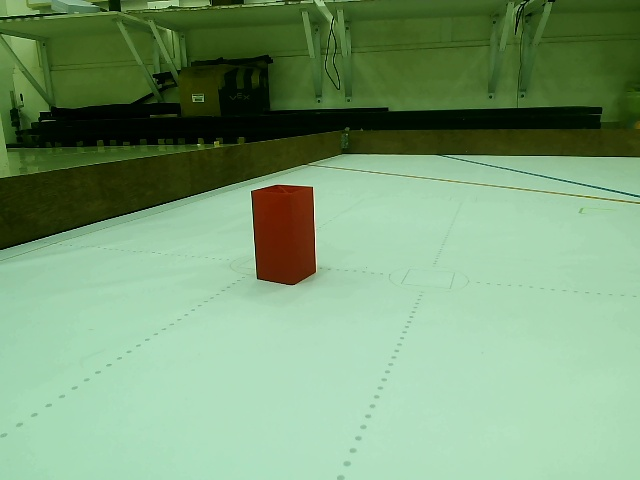red: (253, 189, 315, 278)
